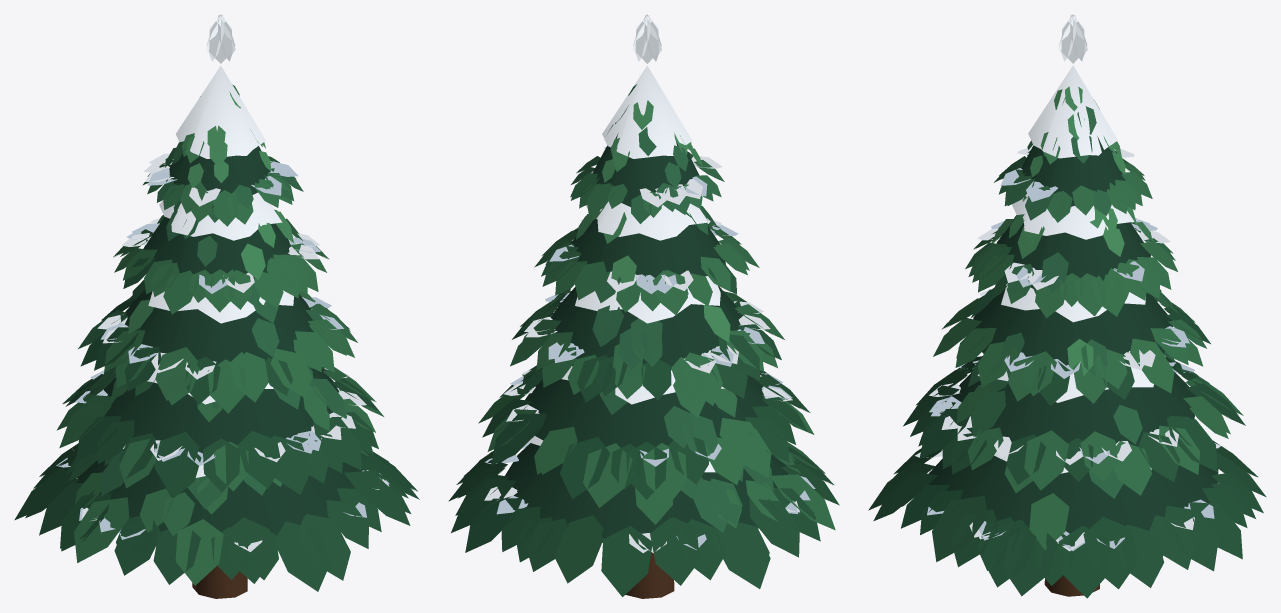
The model's file is TreePineSnow.glb.
3 renders of one model, left to right at view 1: azimuth 30°, elevation 25°; view 2: azimuth 150°, elevation 25°; view 3: azimuth 270°, elevation 25°, orthographic.
Parts seen in each view (by area): view 1: Sway; view 2: Sway; view 3: Sway.
Boxes of the visible parts, box(x1,y1,x2,y2) form: Sway: box(14, 14, 419, 598); Sway: box(448, 14, 839, 598); Sway: box(868, 14, 1266, 598).
Bounding box in the file's own units: 8.6 × 13.67 × 8.67.
1 material, 1 textured.
